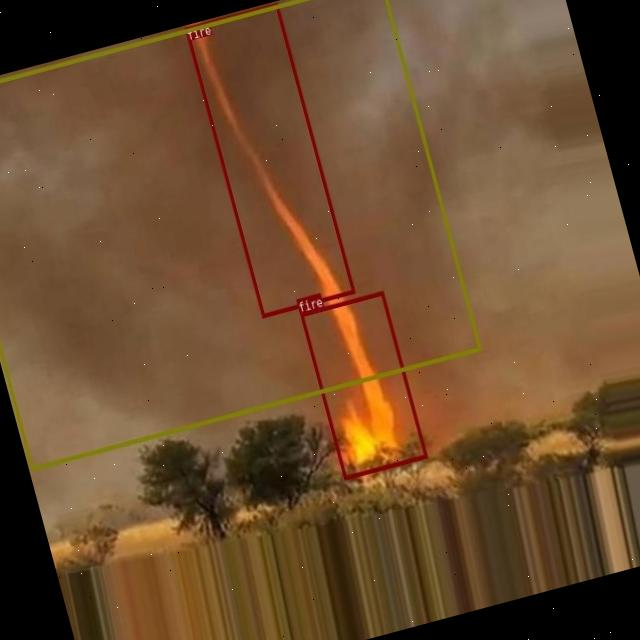fire: (184, 2, 354, 318), (300, 291, 428, 479)
smoke: (0, 0, 481, 468)
